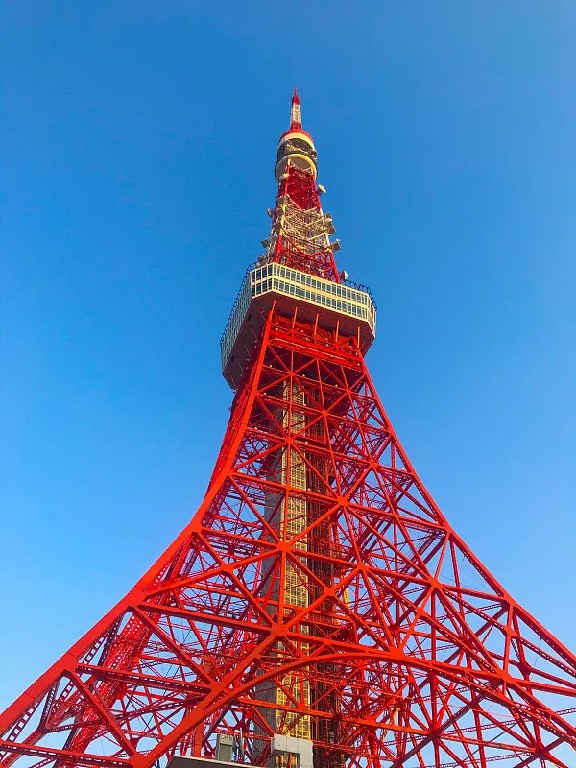Tokyo: (1, 82, 576, 765)
